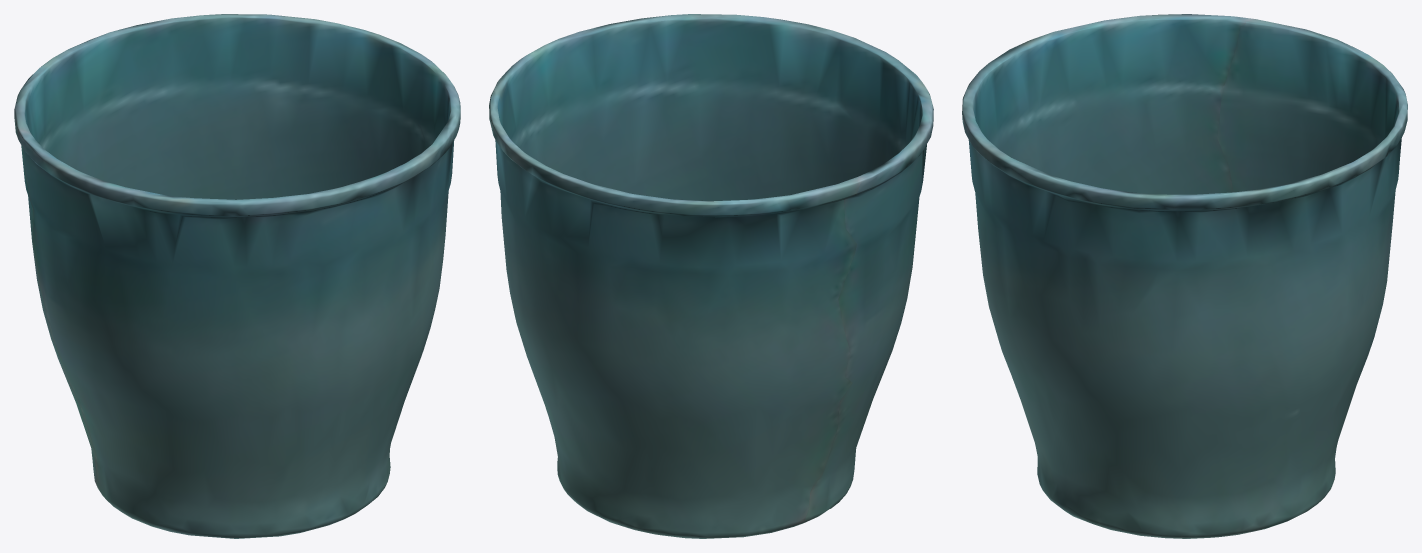
Rendered from Ecoforms_Pot_Nova_6_Turquoise-high.glb.
The picture shows the model from 3 angles, left to right: view 1: azimuth 30°, elevation 25°; view 2: azimuth 150°, elevation 25°; view 3: azimuth 270°, elevation 25°; orthographic projection.
Visible parts, largest first — view 1: Ecoforms_Pot_Nova_6_Turquoise; view 2: Ecoforms_Pot_Nova_6_Turquoise; view 3: Ecoforms_Pot_Nova_6_Turquoise.
Boxes of the visible parts, left/top/right/bottom form: Ecoforms_Pot_Nova_6_Turquoise: left=14, top=14, right=460, bottom=538; Ecoforms_Pot_Nova_6_Turquoise: left=489, top=14, right=933, bottom=538; Ecoforms_Pot_Nova_6_Turquoise: left=962, top=14, right=1407, bottom=538.
Bounding box in the file's own units: 0.1808 × 0.1697 × 0.1801.
Materials: 1 (1 with a texture image).
